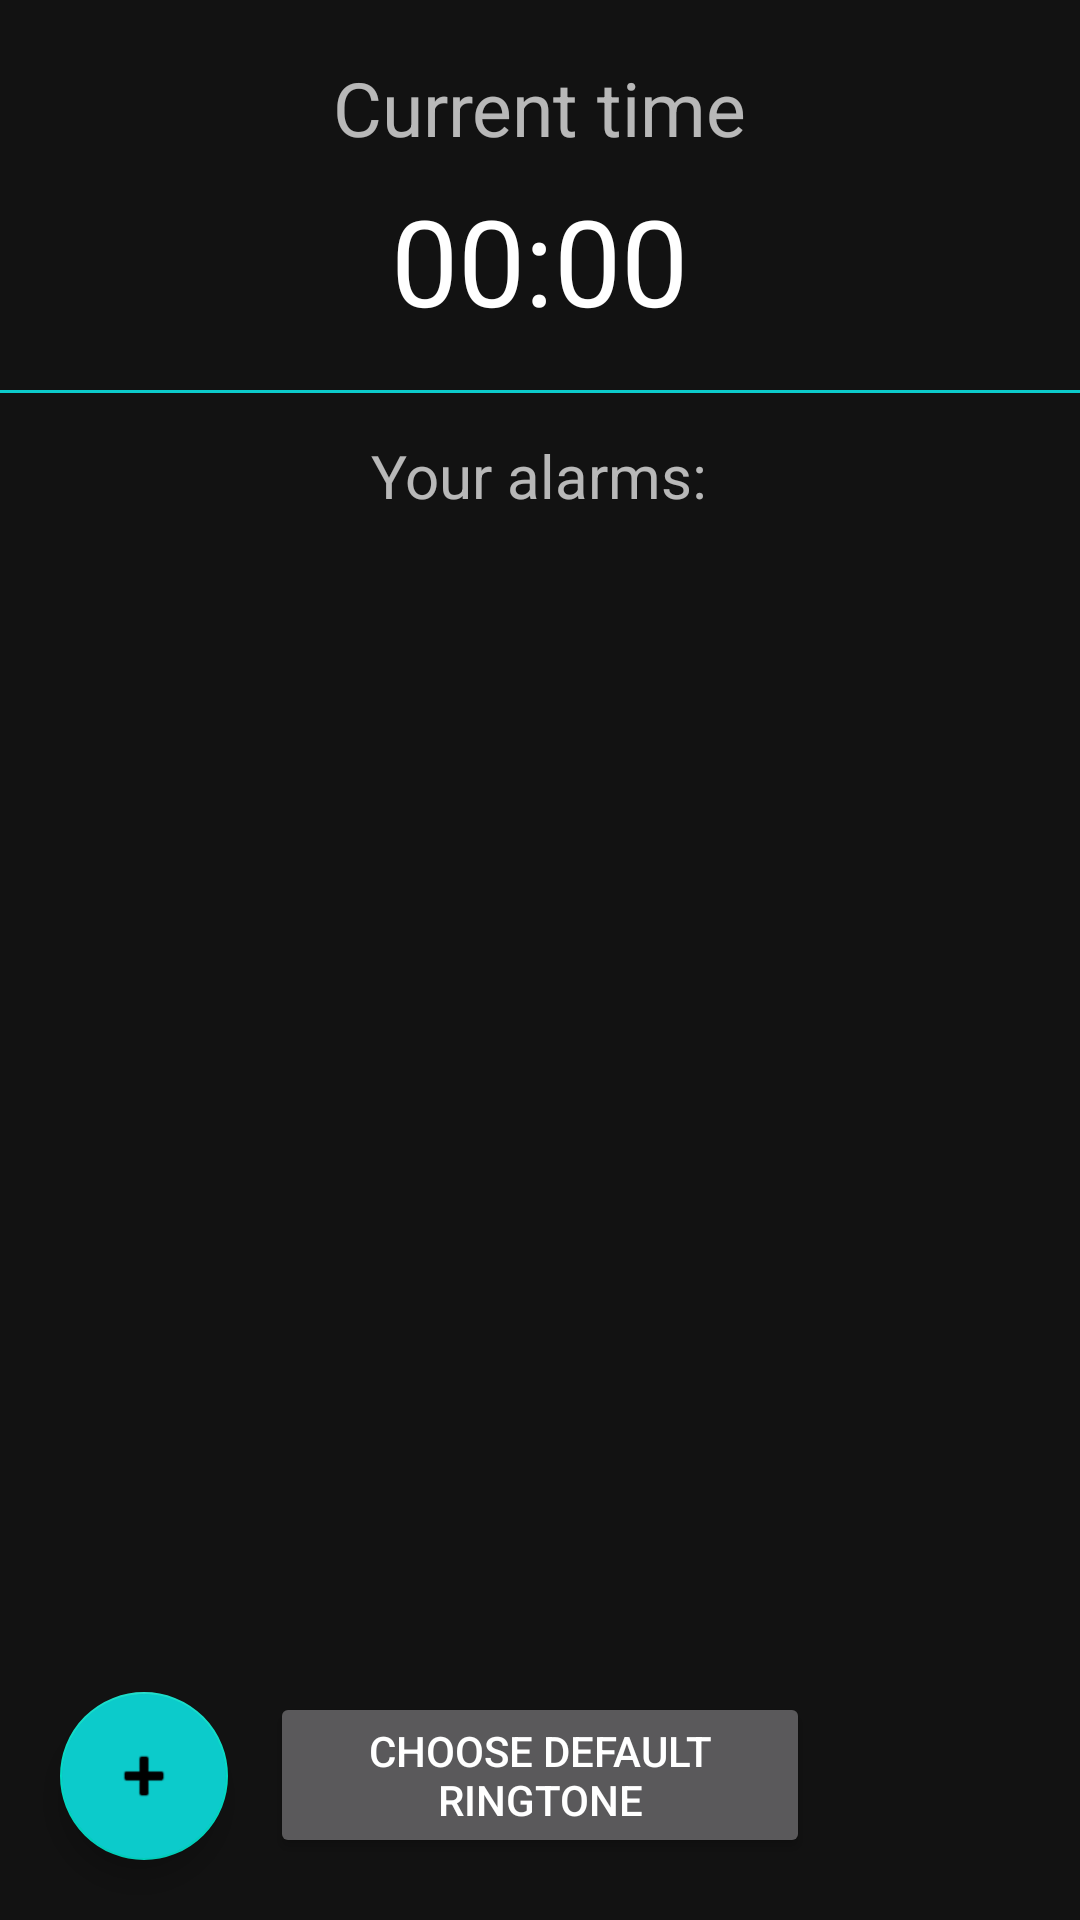

Icon click points for this 1080*1920 phone screenshot, format (x=x, y=y):
add: (x=144, y=1776)
